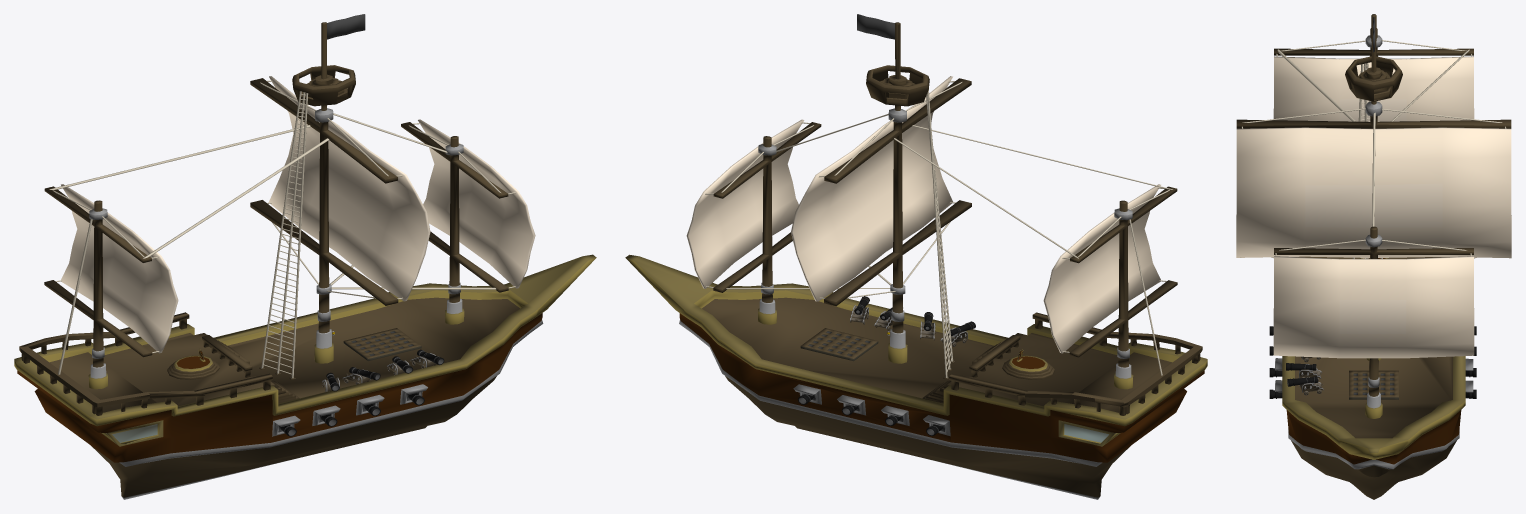
The model's file is SM_Galleon.fbx.
3 renders of one model, left to right at view 1: azimuth 30°, elevation 25°; view 2: azimuth 150°, elevation 25°; view 3: azimuth 270°, elevation 25°, orthographic.
Visible parts, largest first — view 1: SM_Galleon; view 2: SM_Galleon; view 3: SM_Galleon.
Boxes of the visible parts, x1=… form: SM_Galleon: x1=14, y1=14, x2=596, y2=499; SM_Galleon: x1=625, y1=14, x2=1207, y2=499; SM_Galleon: x1=1236, y1=14, x2=1511, y2=499.
Size of the model in its own units: 61.93 by 46.85 by 26.86.
